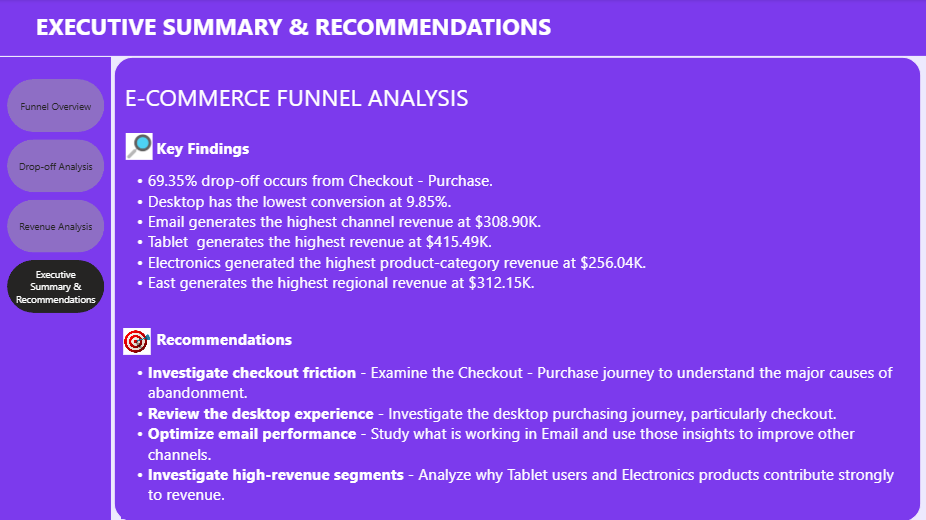

This screenshot's page, from the dashboard's own definition file:
{"tool":"powerbi","page":{"name":"Executive Summary & Recommendations","canvas":[1280,720],"ordinal":3},"visuals":[{"type":"shape","box":[0,0,1280,720.6],"z":0},{"type":"shape","box":[0,79.2,154.1,639],"z":1000},{"type":"shape","title":"E-COMMERCE FUNNEL - DROP-OFF ANALYSIS","box":[0,0,1280,78],"z":2000},{"type":"shape","box":[741.6,221.8,527,391.7],"z":3000},{"type":"shape","box":[158.3,79.8,1110.7,640],"z":4000},{"type":"textbox","title":"KEY FINDING","box":[167.9,90.8,1087.3,624.9],"z":5000},{"type":"textbox","box":[45.4,9.6,769.4,60.6],"z":6000},{"type":"pageNavigator","box":[11,110.1,134.9,324.8],"z":7000},{"type":"image","box":[173.4,184.4,38.5,37.2],"z":7001},{"type":"image","box":[167.9,452.8,44,37.2],"z":7002}]}

Visuals, with their boxes in screenshot pixels (x1, y1, x2, y2), scaled from the page's 1280x720 canvas onto the 926x520 screenshot:
shape: select_region(0, 0, 925, 519)
shape: select_region(0, 57, 111, 519)
"E-COMMERCE FUNNEL - DROP-OFF ANALYSIS" shape: select_region(0, 0, 925, 56)
shape: select_region(537, 160, 918, 443)
shape: select_region(115, 58, 918, 519)
"KEY FINDING" textbox: select_region(121, 66, 908, 517)
textbox: select_region(33, 7, 589, 51)
pageNavigator: select_region(8, 80, 106, 314)
image: select_region(125, 133, 153, 160)
image: select_region(121, 327, 153, 354)
